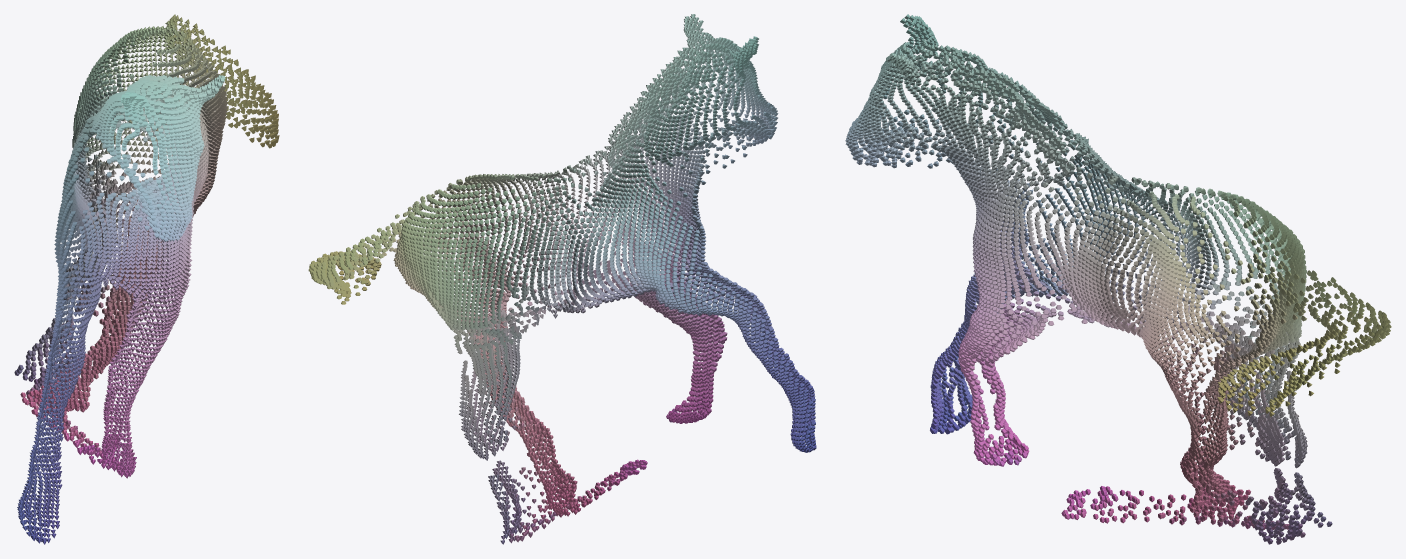
File: 2008_004911_1_pcan.glb
3 renders of one model, left to right at view 1: azimuth 30°, elevation 25°; view 2: azimuth 150°, elevation 25°; view 3: azimuth 270°, elevation 25°, orthographic. The views are drawn at different scales.
Parts seen in each view (by area): view 1: target; view 2: target; view 3: target.
Part boxes in pixels (x1=…): target: x1=14, y1=14, x2=279, y2=544; target: x1=308, y1=14, x2=816, y2=544; target: x1=845, y1=14, x2=1391, y2=544.
Size of the model in its own units: 2.14 by 2.37 by 2.43.
